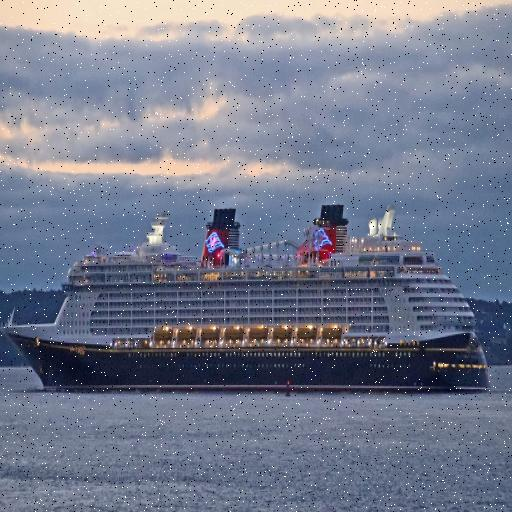cruises: (1, 200, 496, 397)
